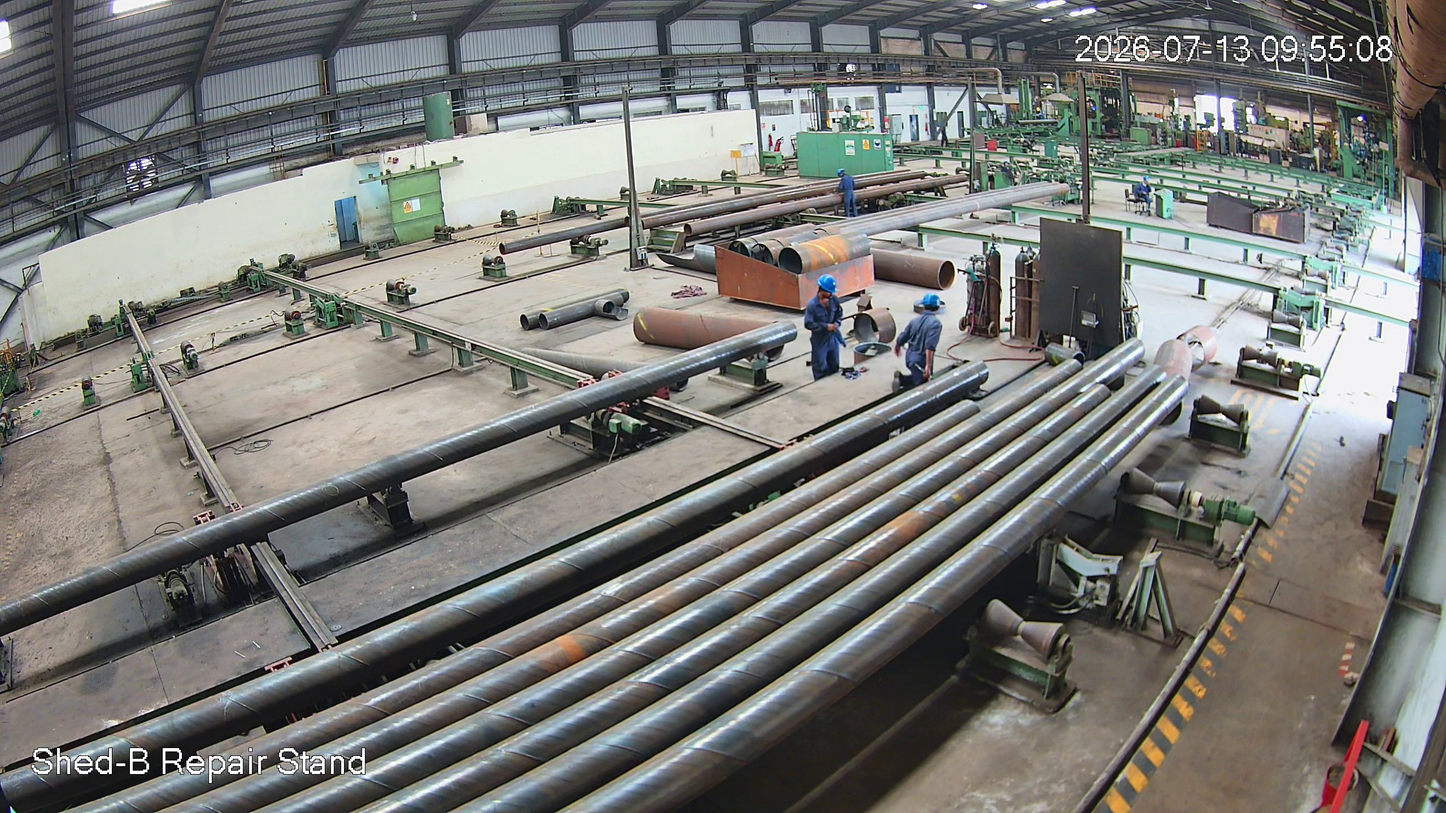Helmet: (810, 273, 842, 306), (919, 291, 942, 321)
Person: (887, 293, 952, 399), (803, 276, 848, 380)
